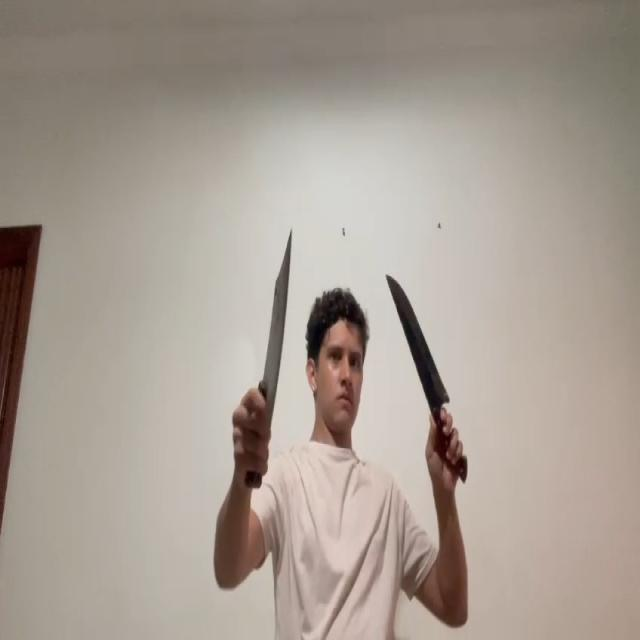knife: (385, 272, 448, 398), (260, 232, 293, 385)
